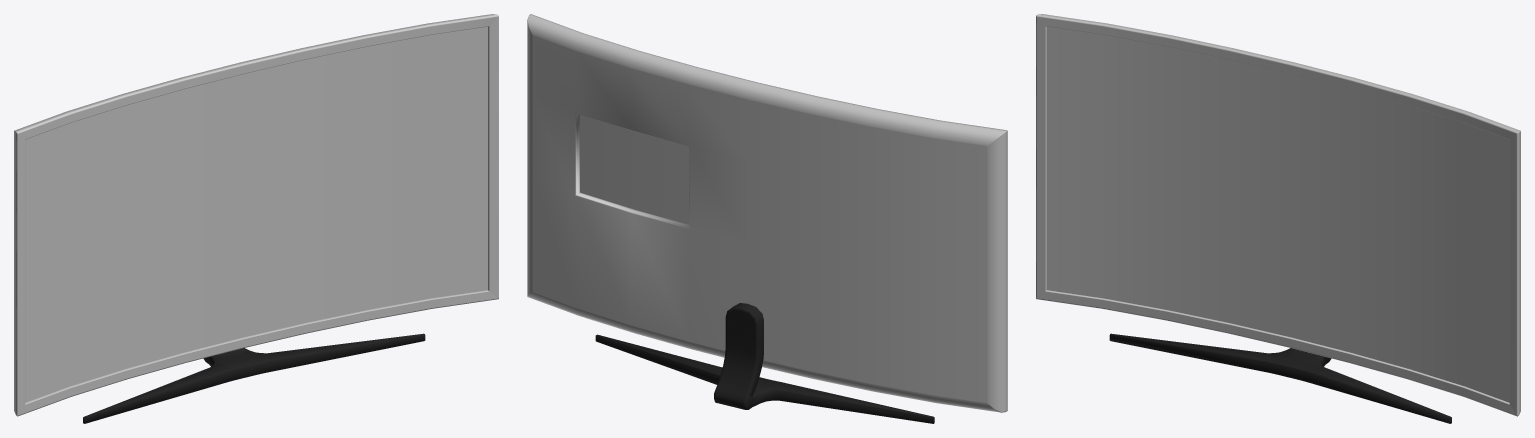
File: SmartTV.fbx
3 views of the same model, side by side, from view 1: azimuth 30°, elevation 25°; view 2: azimuth 150°, elevation 25°; view 3: azimuth 330°, elevation 25° (orthographic).
Visible parts, largest first — view 1: Panel, Screen, Base; view 2: Screen, Base; view 3: Panel, Screen, Base.
Boxes of the visible parts, x1,y1,x2,y2 form: Panel: (25,26,487,402); Screen: (14,14,498,416); Base: (83,333,425,423); Screen: (527,14,1007,412); Base: (595,303,934,423); Panel: (1047,26,1509,402); Screen: (1036,14,1520,416); Base: (1109,333,1451,423).
Size of the model in its own units: 208 by 128 by 30.05.
